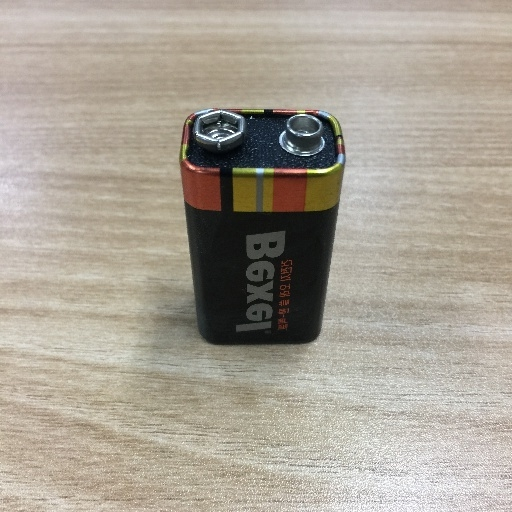Battery_3: (166, 98, 355, 354)
